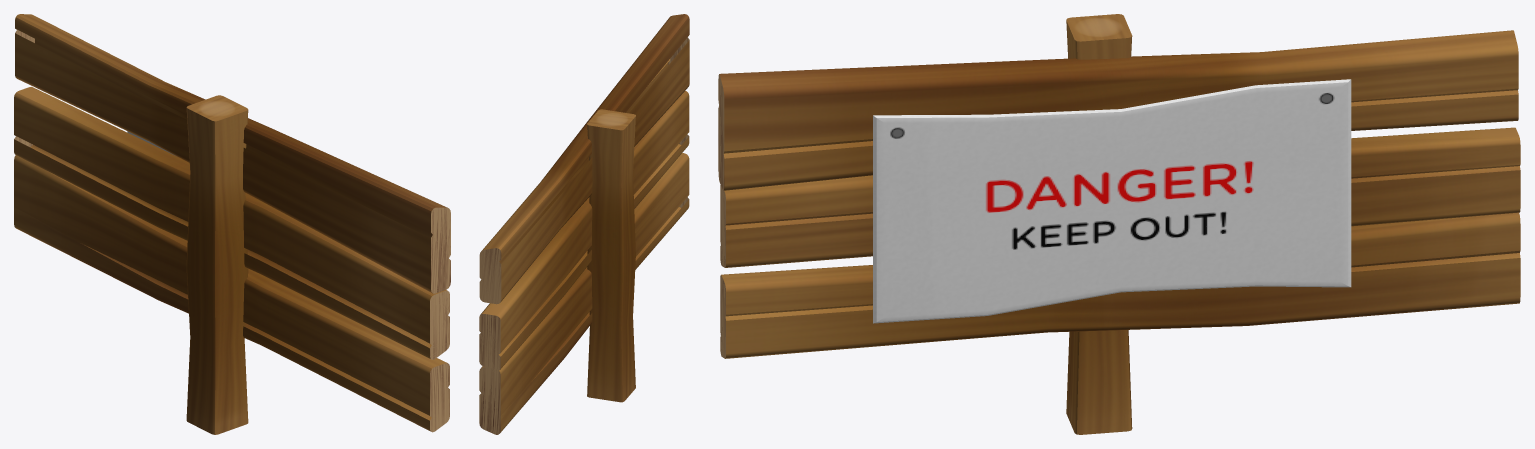
The model's file is Long_Sign [Textured].fbx.
3 views of the same model, side by side, from view 1: azimuth 30°, elevation 25°; view 2: azimuth 150°, elevation 25°; view 3: azimuth 270°, elevation 25° (orthographic). The views are drawn at different scales.
Visible parts, largest first — view 1: pCube25; view 2: pCube25; view 3: pCube25.
Part boxes in pixels (x1,y1,x2,y2): pCube25: (14,14,450,434); pCube25: (479,14,689,434); pCube25: (718,14,1520,434).
Size of the model in its own units: 2.84 by 6.97 by 12.87.
1 material, 1 textured.
